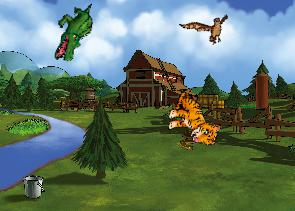crocodile: (53, 1, 94, 63)
eagle: (179, 1, 237, 55)
tiger: (162, 89, 227, 149)
